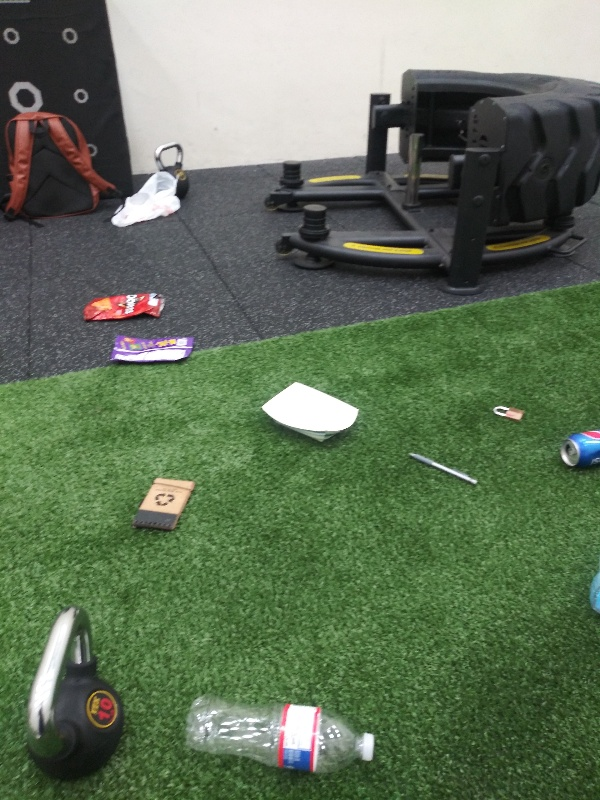bag: (101, 330, 199, 369), (78, 287, 167, 329)
bottle: (181, 687, 377, 778)
can: (560, 425, 600, 471)
plate: (256, 378, 364, 445)
